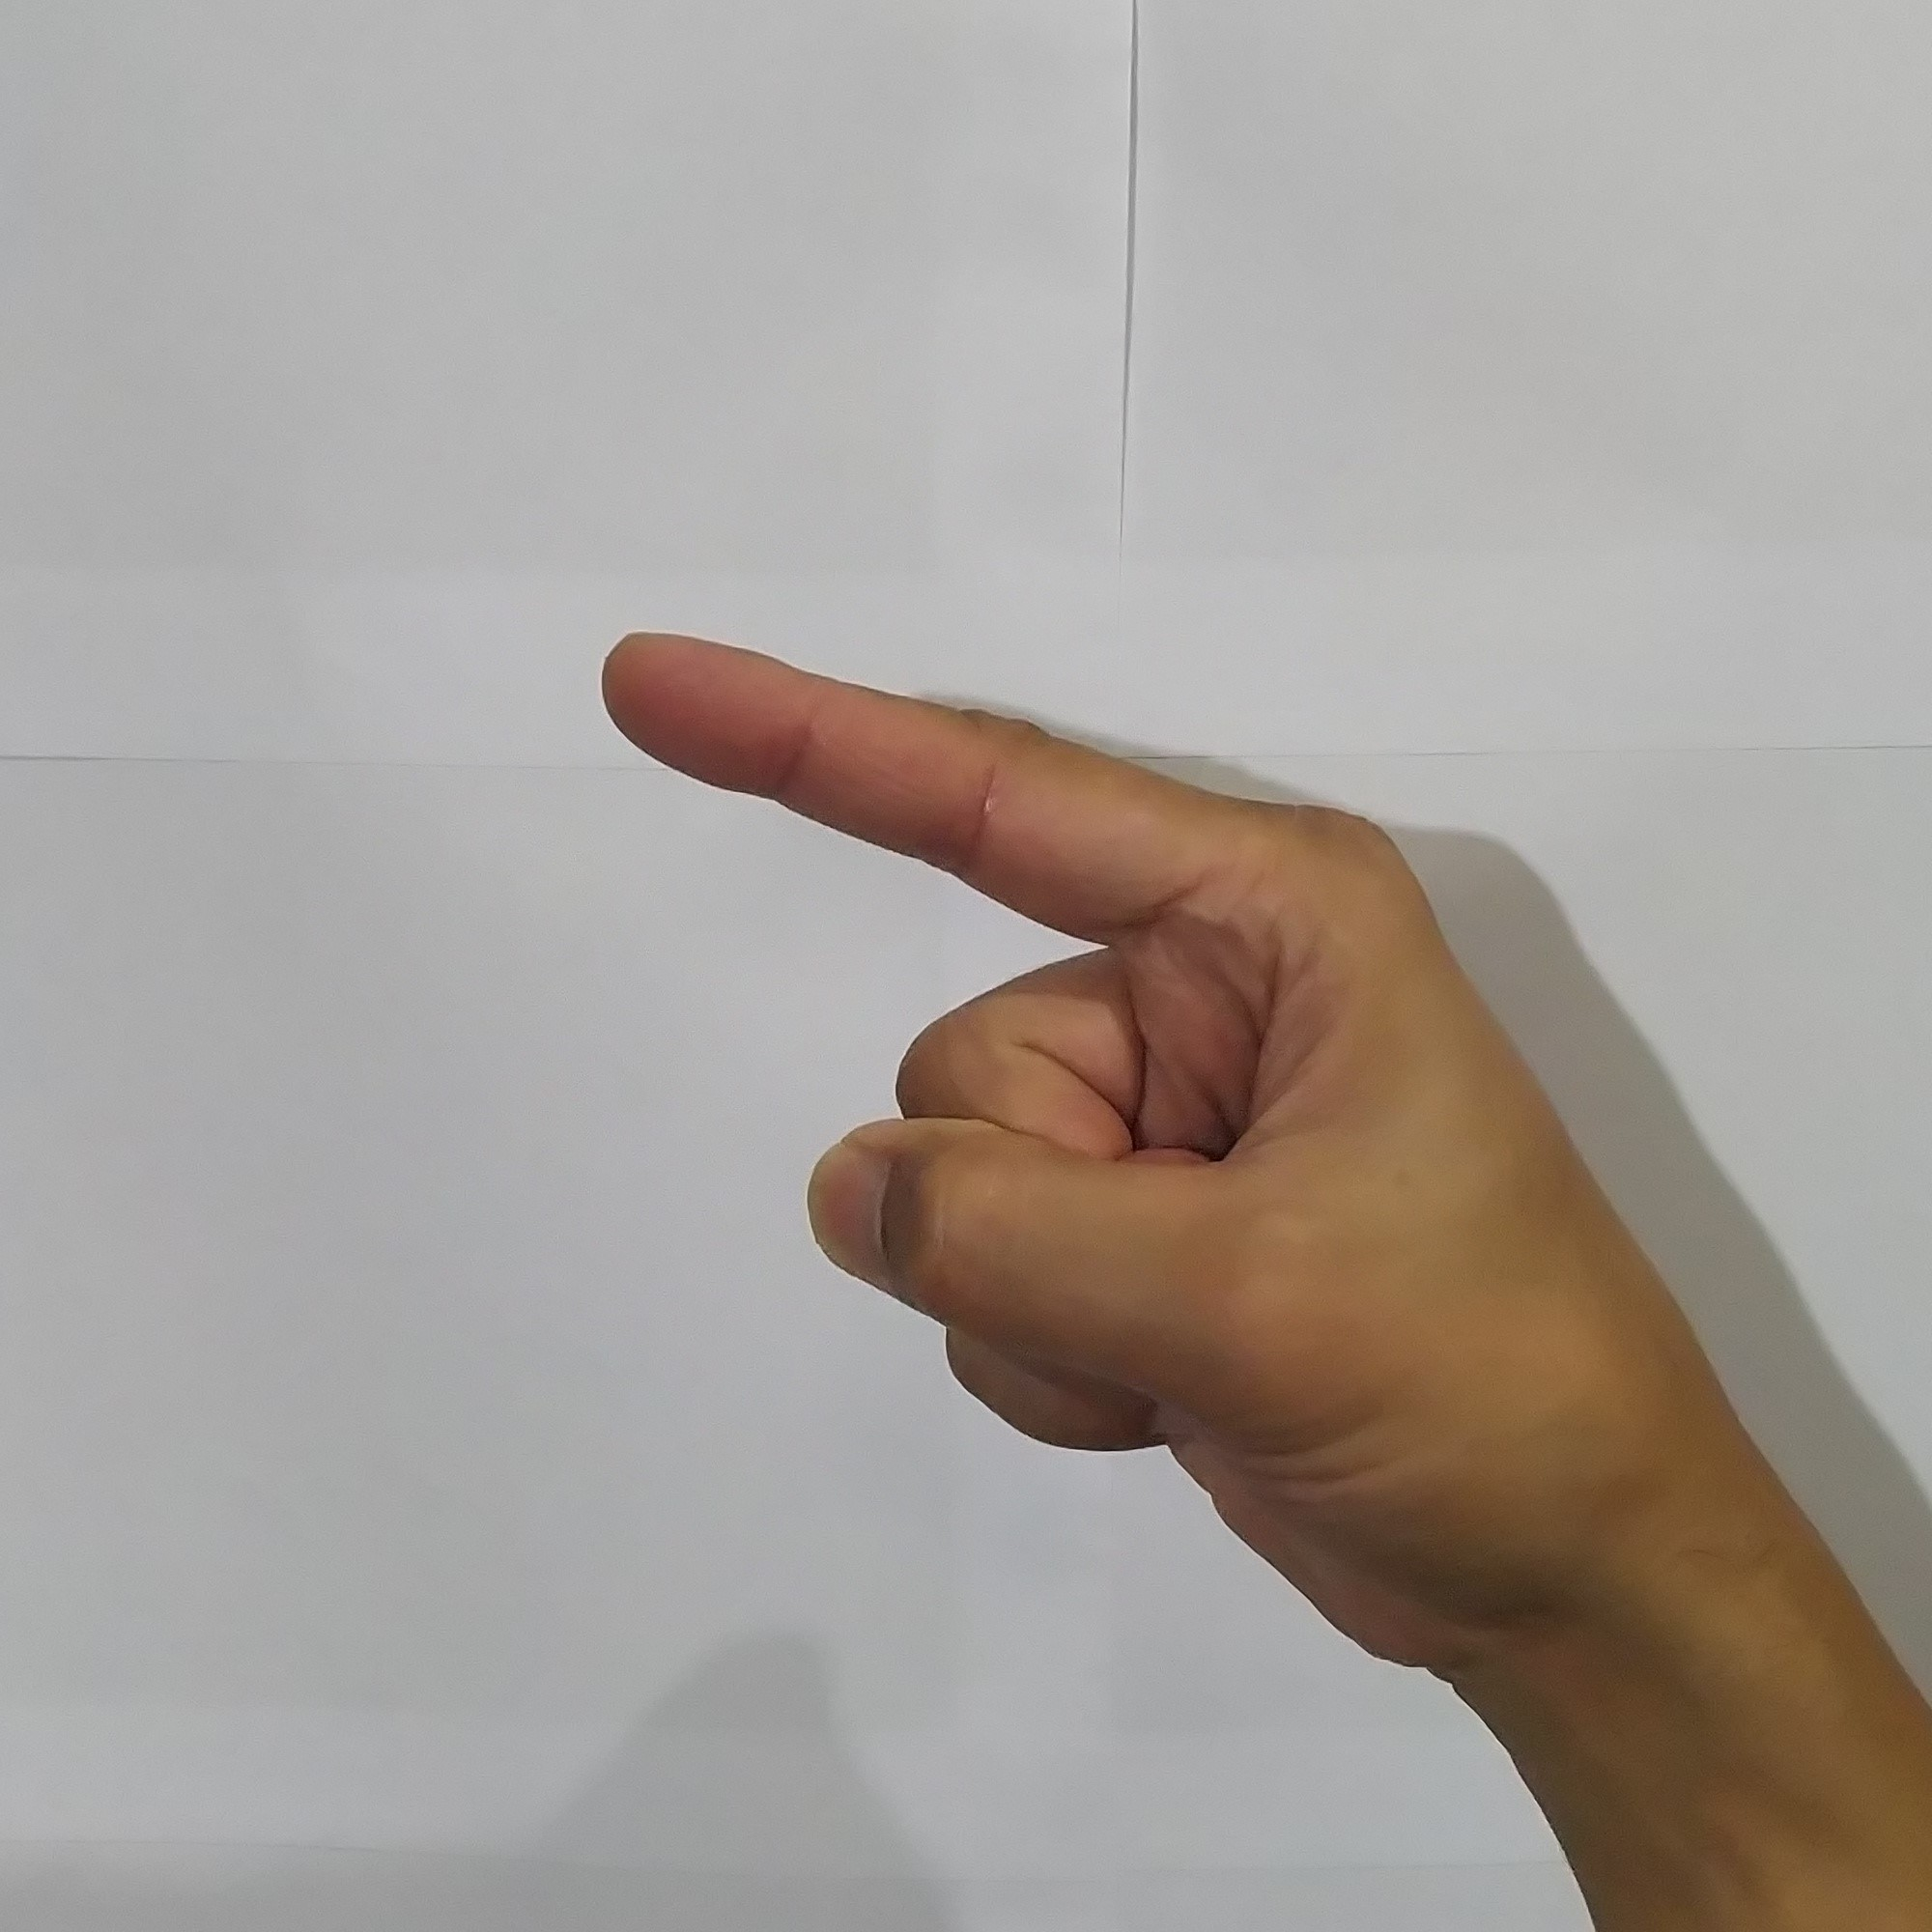Z: (575, 607, 1713, 1675)
